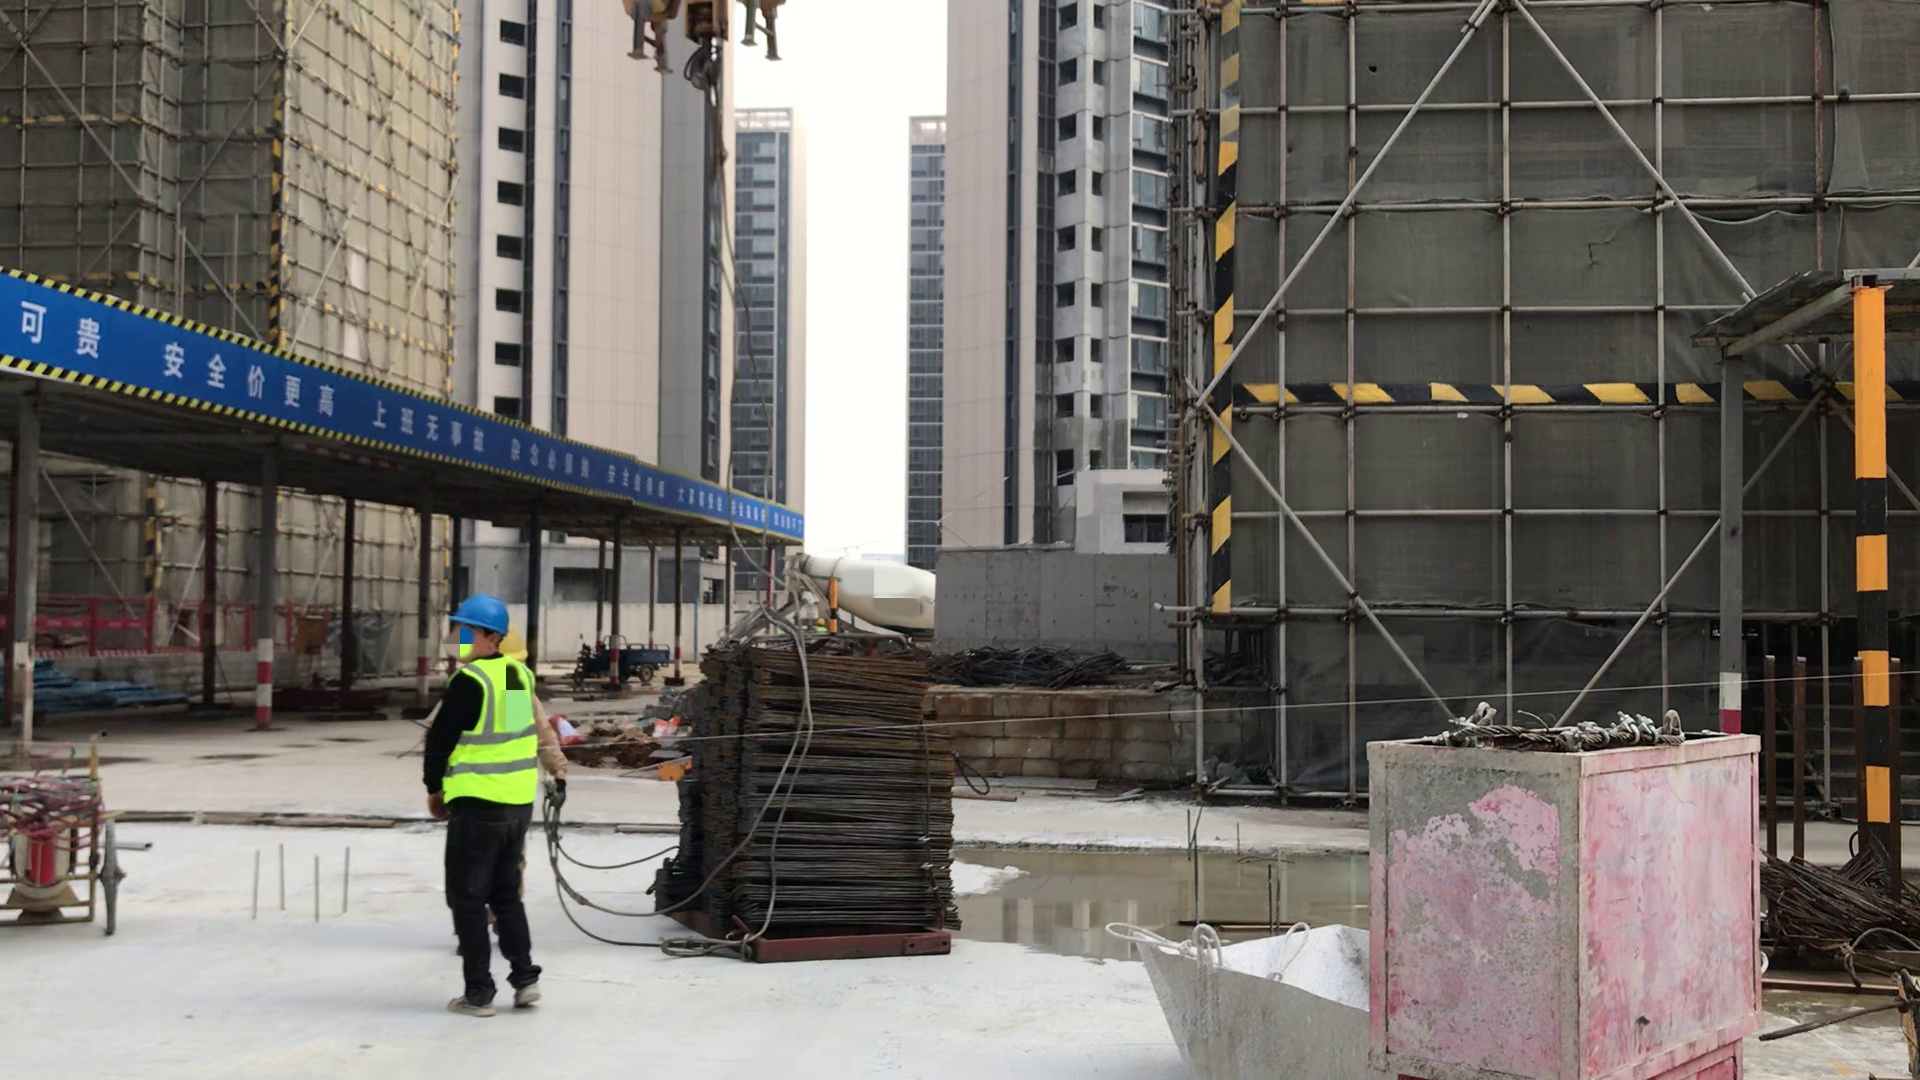ebox: (294, 613, 327, 657)
fence: (27, 598, 347, 644)
helmet: (442, 594, 515, 640)
hook: (616, 1, 801, 109)
hopper: (1133, 908, 1389, 1080)
person: (424, 585, 571, 1027)
slogan: (19, 271, 348, 421), (584, 427, 810, 545), (355, 378, 582, 482)
vest: (435, 659, 543, 823)
